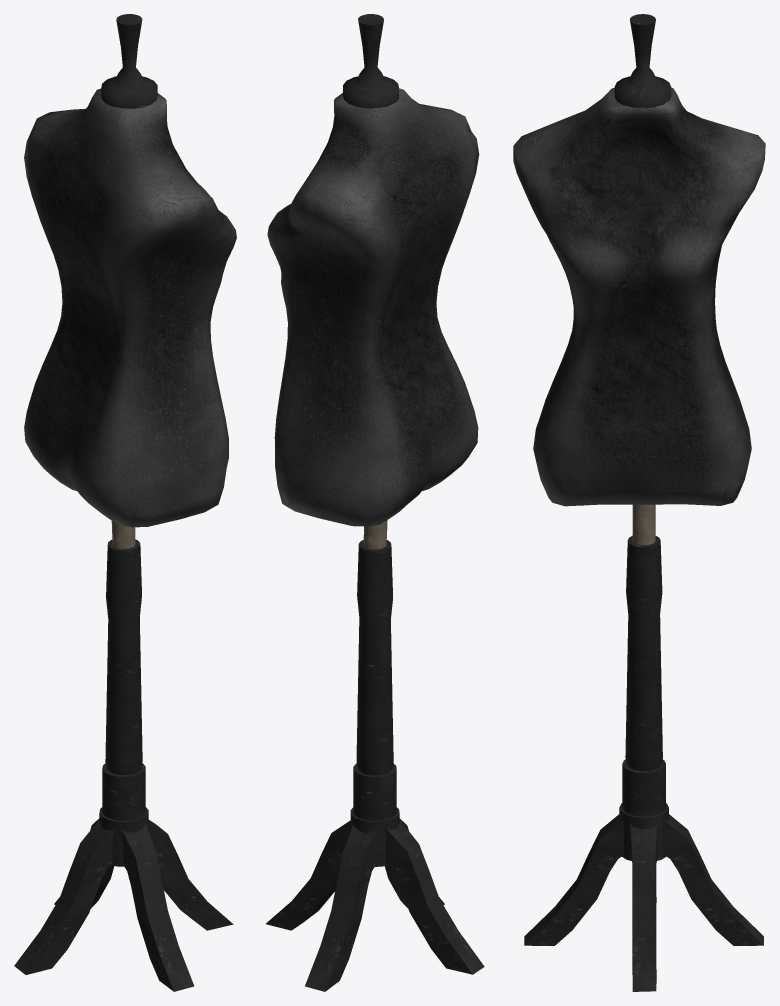
3 renders of one model, left to right at view 1: azimuth 30°, elevation 25°; view 2: azimuth 150°, elevation 25°; view 3: azimuth 270°, elevation 25°, orthographic.
Parts seen in each view (by area): view 1: SM_Manken_0; view 2: SM_Manken_0; view 3: SM_Manken_0.
Part boxes in pixels (left/top/right/bottom): SM_Manken_0: left=14, top=14, right=236, bottom=991; SM_Manken_0: left=266, top=14, right=484, bottom=991; SM_Manken_0: left=513, top=14, right=765, bottom=991.
Size of the model in its own units: 0.3916 by 1.67 by 0.4123.
